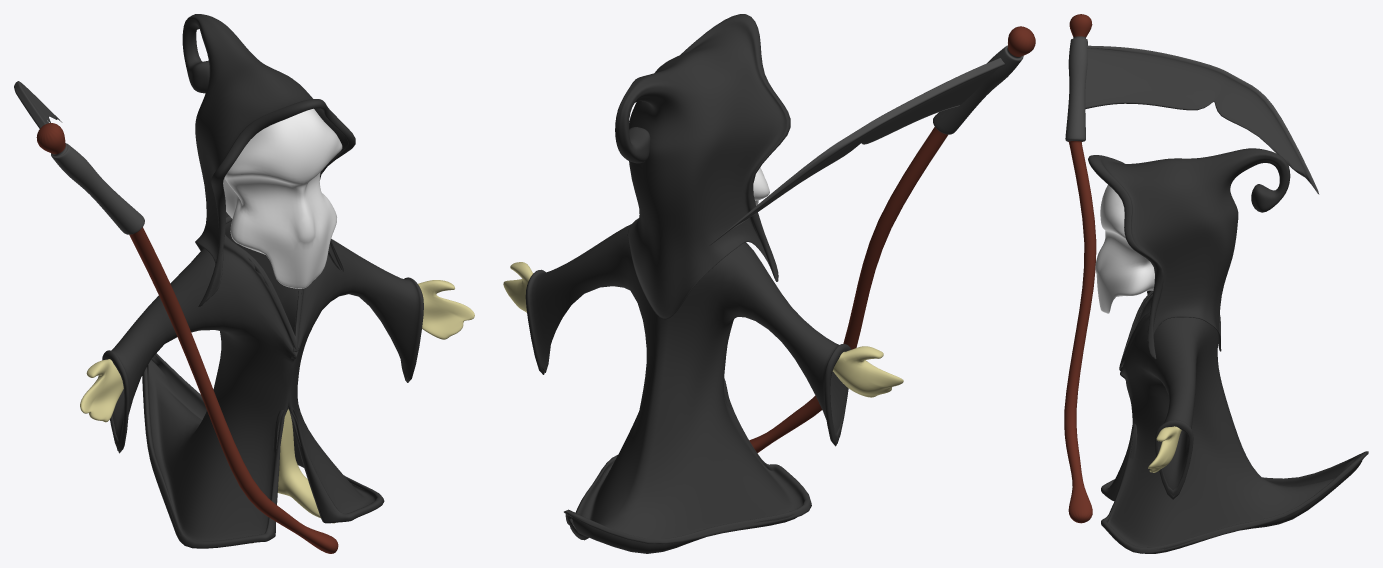
The model's file is Tod_3.0.fbx.
The picture shows the model from 3 angles, left to right: view 1: azimuth 30°, elevation 25°; view 2: azimuth 150°, elevation 25°; view 3: azimuth 270°, elevation 25°; orthographic projection. The views are drawn at different scales.
Visible parts, largest first — view 1: Cube, Plane.001, Plane, Cylinder.001; view 2: Cube, Plane.001, Cylinder.001; view 3: Cube, Plane.001, Cylinder.001, Plane.
Boxes of the visible parts, <box> form: Cube: <box>80,215,474,548</box>; Plane.001: <box>182,14,355,306</box>; Plane: <box>223,108,342,288</box>; Cylinder.001: <box>14,81,338,553</box>; Cube: <box>503,224,903,553</box>; Plane.001: <box>615,14,790,319</box>; Cylinder.001: <box>709,26,1035,452</box>; Cube: <box>1101,290,1368,553</box>; Plane.001: <box>1088,148,1290,359</box>; Cylinder.001: <box>1064,14,1319,523</box>; Plane: <box>1095,185,1154,313</box>.
Size of the model in its own units: 2086 by 2065 by 1429.
